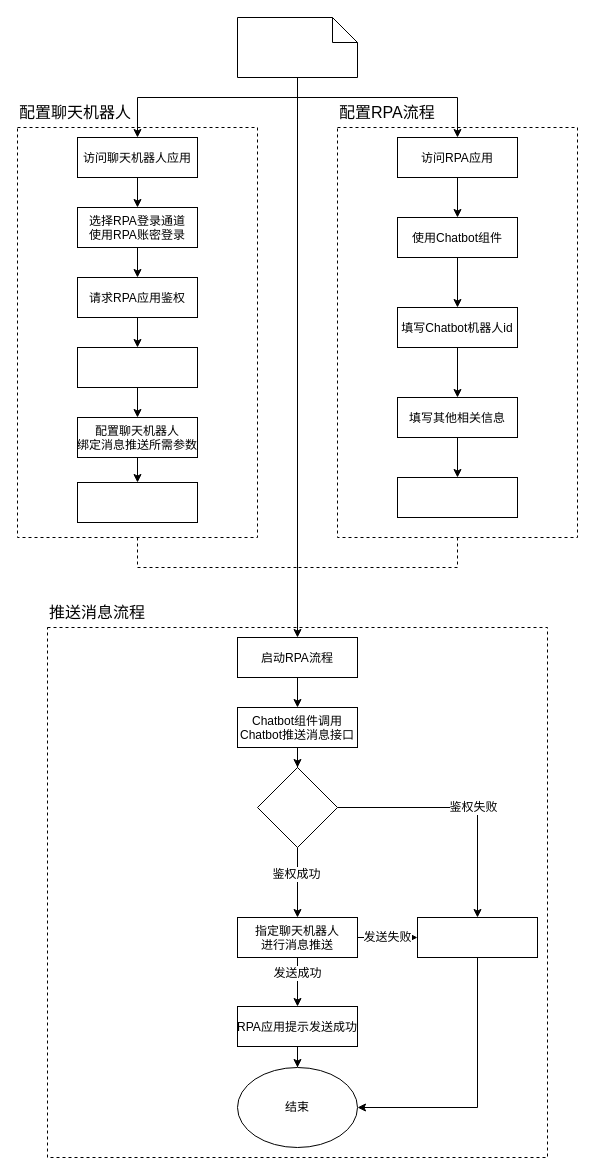
The diagram is 595 pixels wide and 1175 high, and some of its shapes have lost their labels. Each missing label, with the centre of its shape:
"Chatbot 用户信息鉴权" goes at [297,807].
"RPA应用提示失败信息" goes at [477,937].
"RPA用户" goes at [297,47].
"保存流程信息" goes at [457,497].
"保存退出" goes at [137,502].
"自动注册为RPA用户" goes at [137,367].
